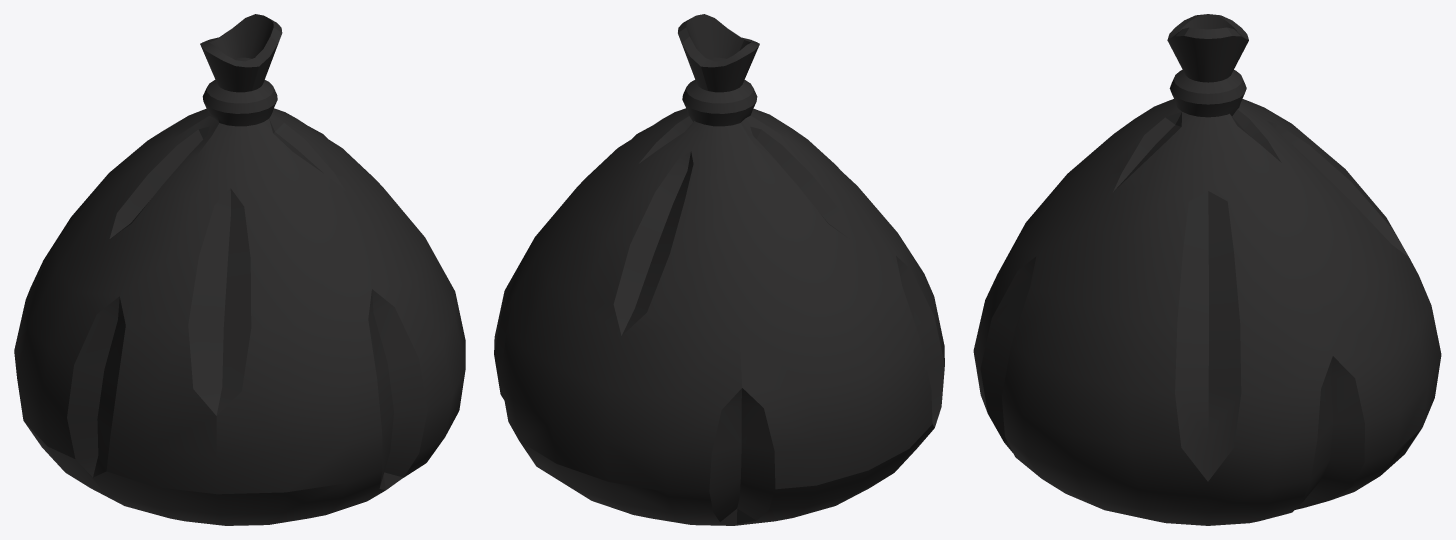
File: Trash Bag.glb
3 renders of one model, left to right at view 1: azimuth 30°, elevation 25°; view 2: azimuth 150°, elevation 25°; view 3: azimuth 270°, elevation 25°, orthographic. The views are drawn at different scales.
Visible parts, largest first — view 1: TrashBag_1; view 2: TrashBag_1; view 3: TrashBag_1.
Part boxes in pixels (box(x1,y1,x2,y2)): TrashBag_1: box(14, 14, 465, 525); TrashBag_1: box(494, 14, 944, 525); TrashBag_1: box(973, 14, 1441, 525).
Bounding box in the file's own units: 0.4969 × 0.5637 × 0.5033.
Materials: 1 (1 with a texture image).
